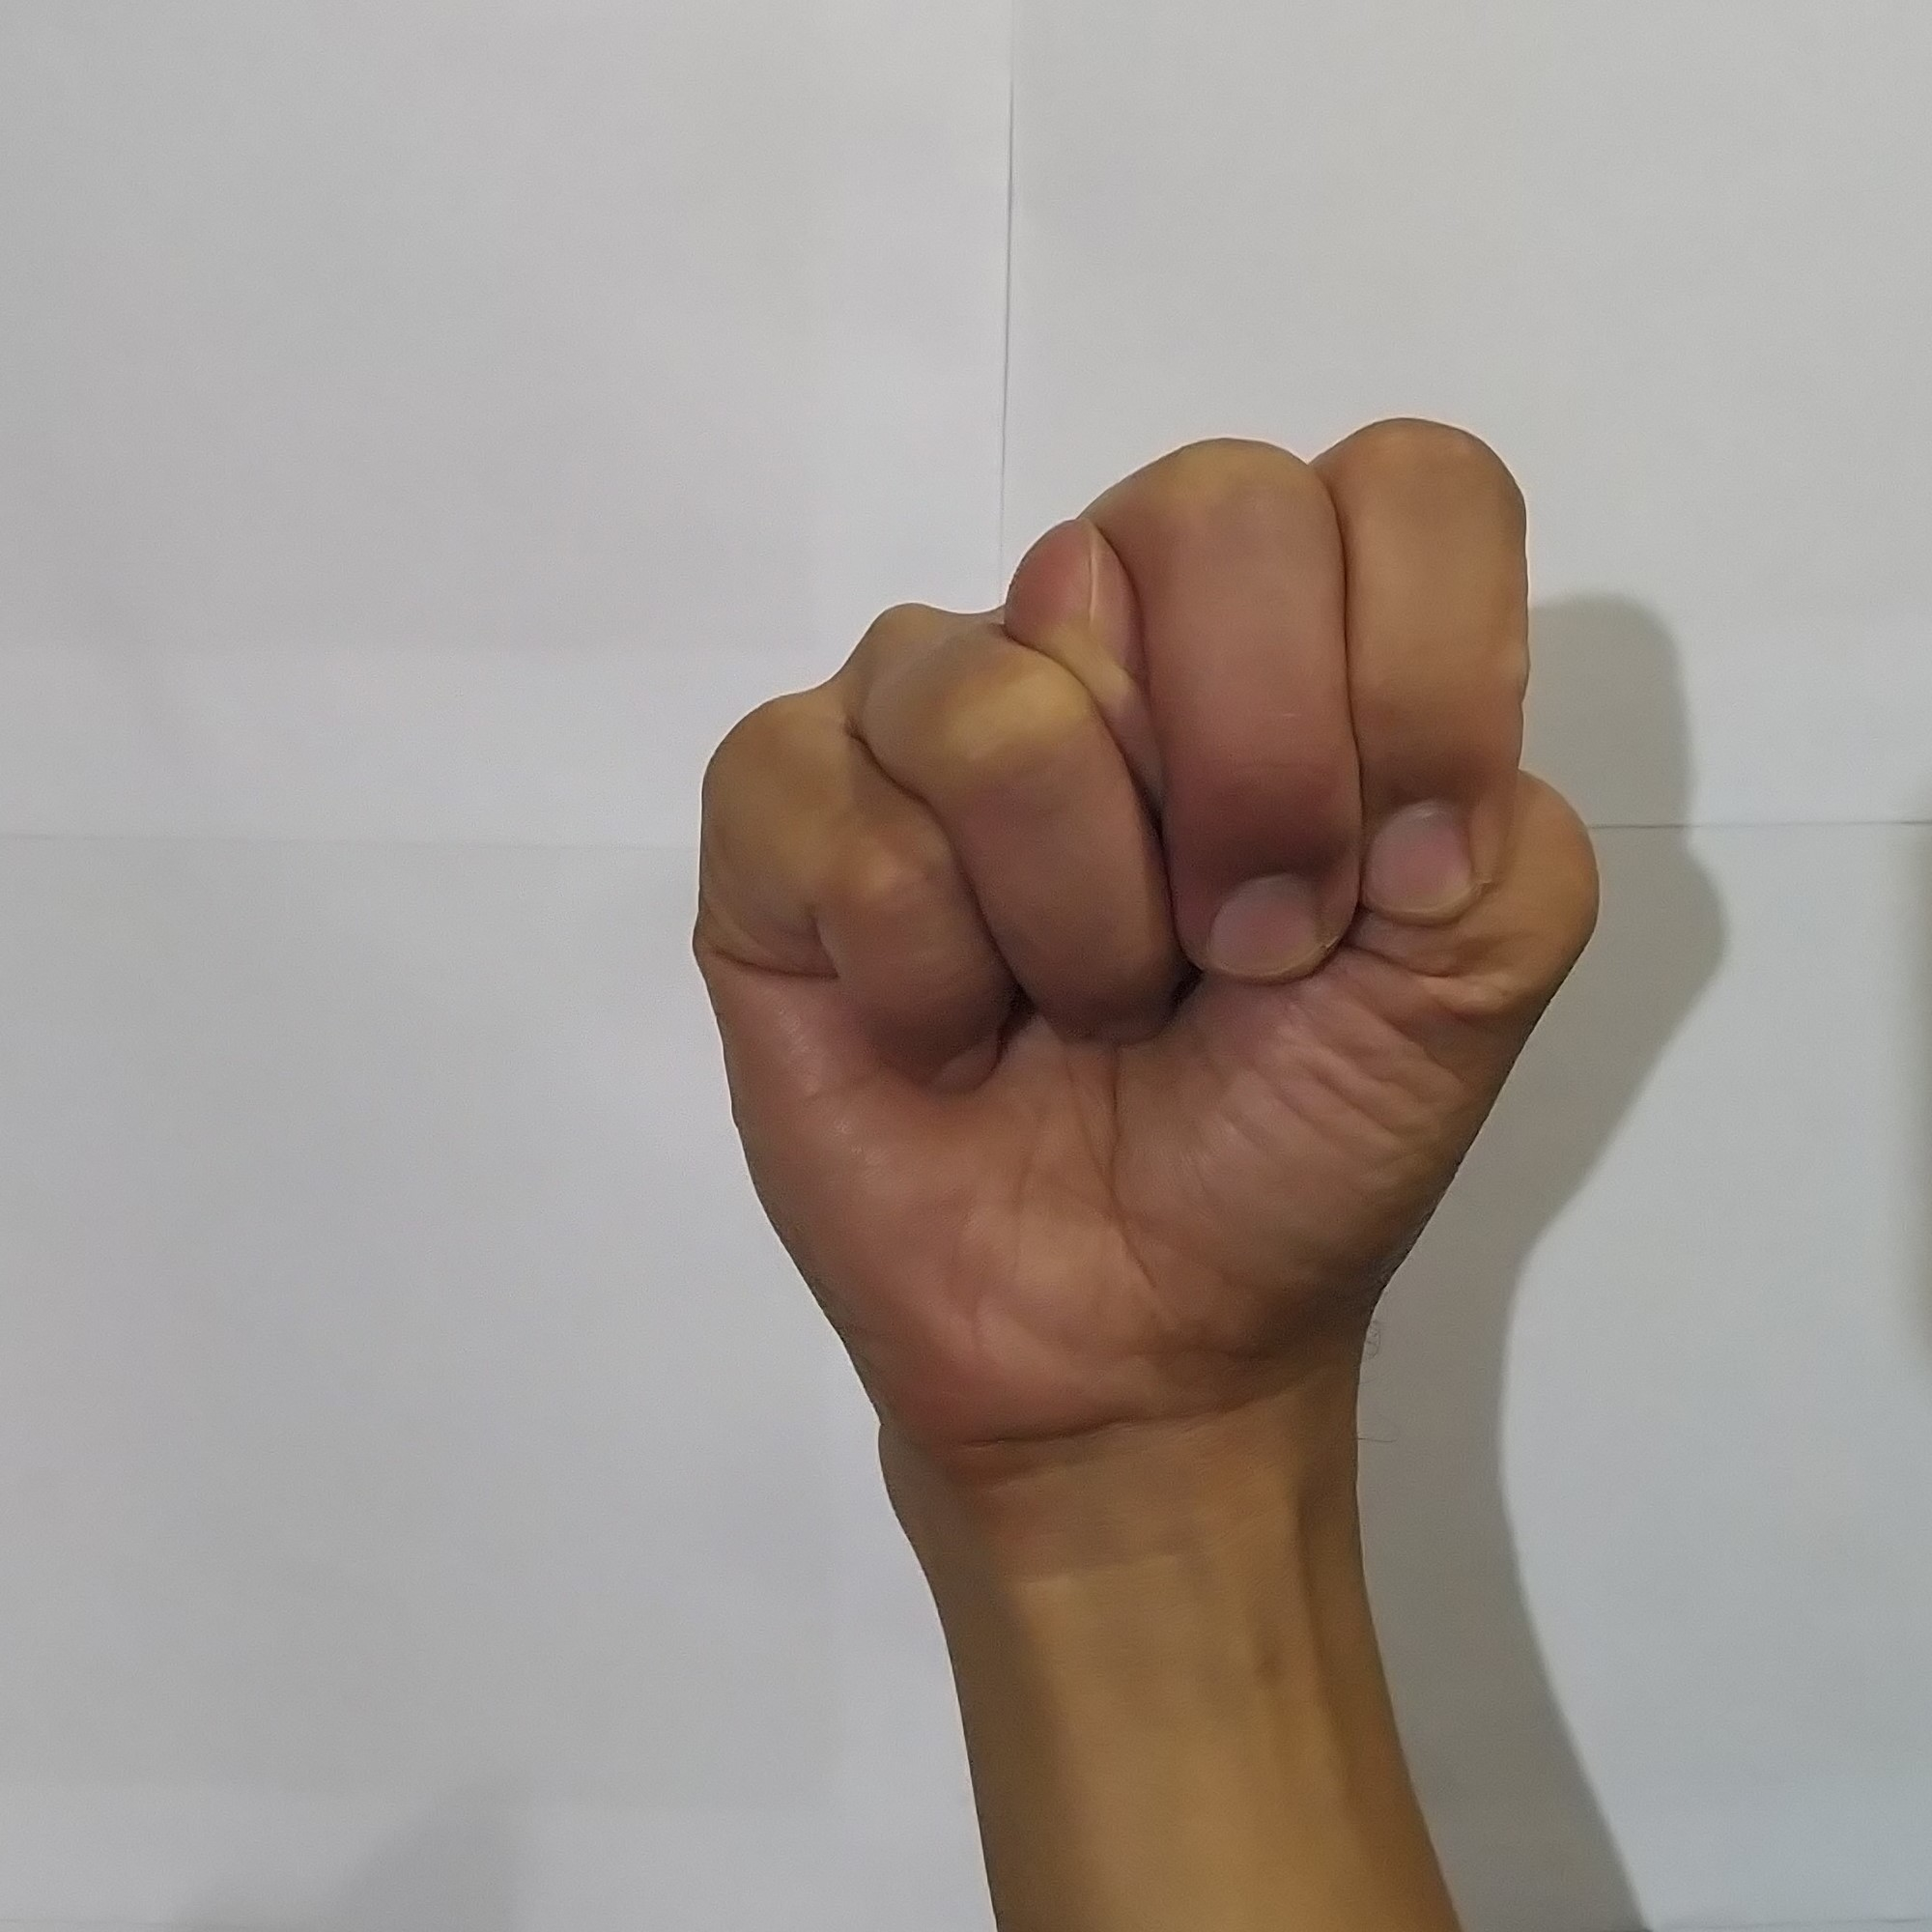N: (656, 393, 1626, 1405)
